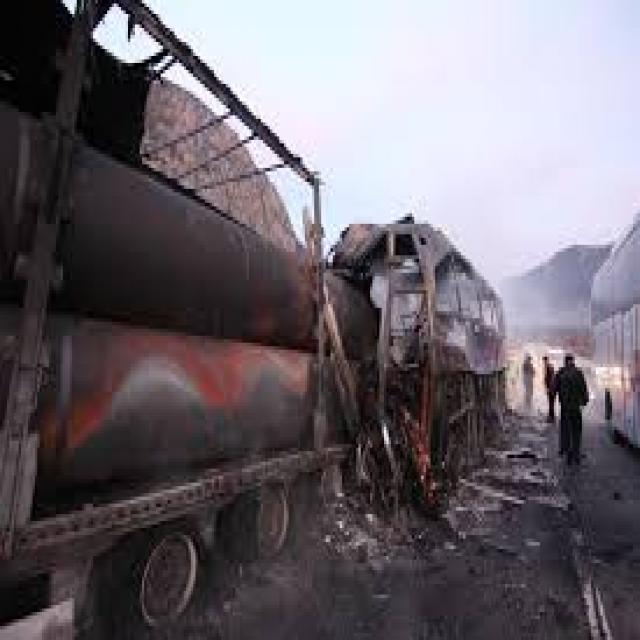accident: (4, 7, 374, 606), (327, 214, 608, 508)
